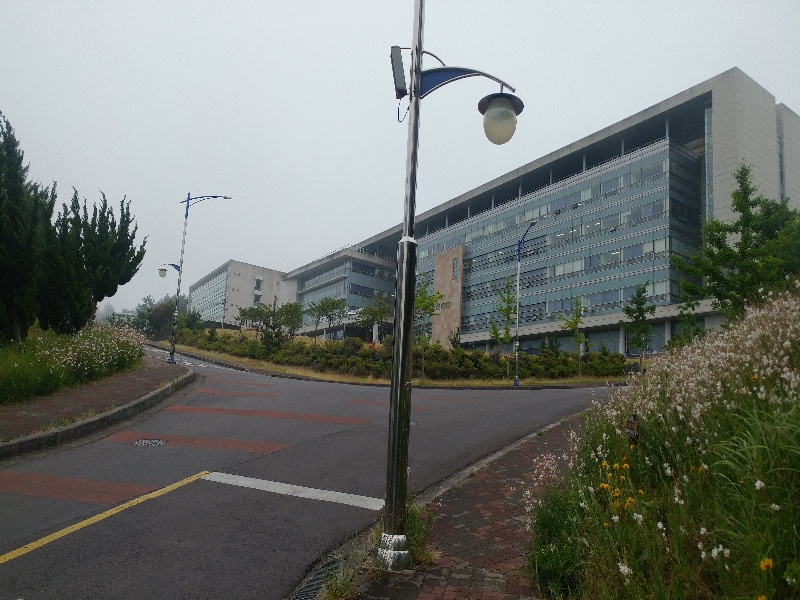College of Marine Science: (195, 242, 283, 321), (189, 264, 279, 324)
Engineering College Building 4: (313, 93, 790, 344), (425, 173, 789, 324)
